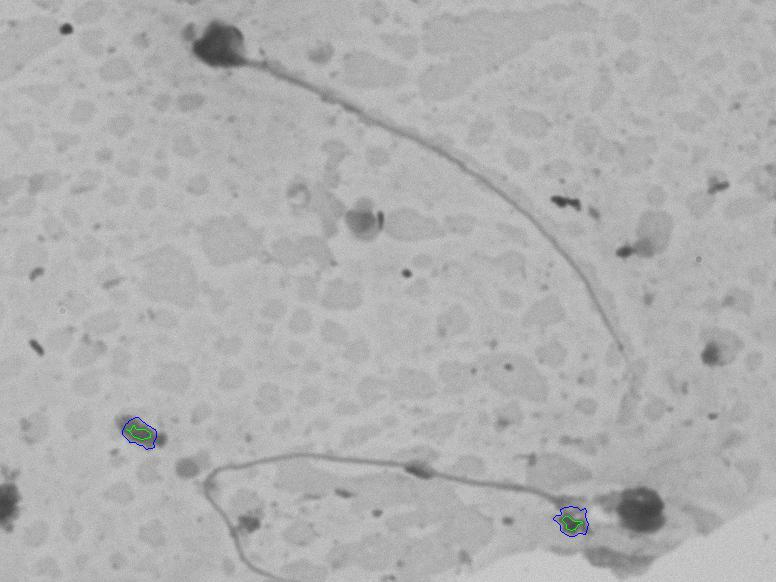Abnormal: (142, 15, 676, 371), (172, 421, 682, 570)
